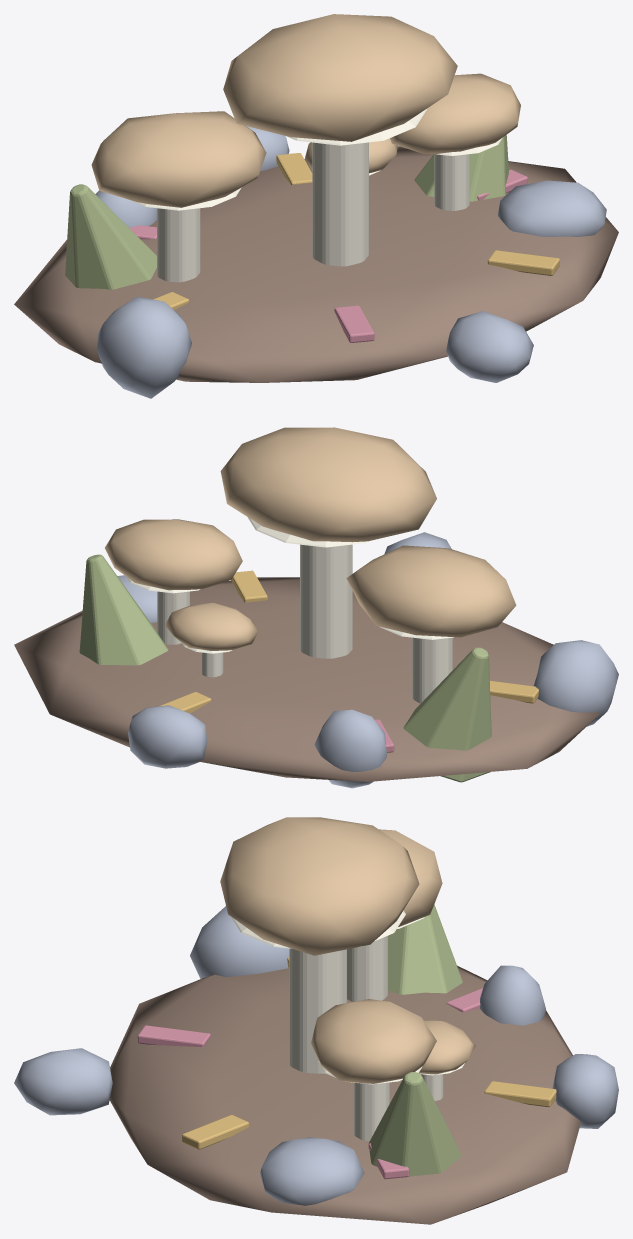
Rendered from northern_mushrooms_tan.glb.
3 views of the same model, one above another, from view 1: azimuth 30°, elevation 25°; view 2: azimuth 150°, elevation 25°; view 3: azimuth 270°, elevation 25° (orthographic). The views are drawn at different scales.
Visible parts, largest first — view 1: northern_mushrooms_tan.001; view 2: northern_mushrooms_tan.001; view 3: northern_mushrooms_tan.001.
Boxes of the visible parts, x1,y1,x2,y2 form: northern_mushrooms_tan.001: (14, 14, 618, 398); northern_mushrooms_tan.001: (14, 427, 618, 788); northern_mushrooms_tan.001: (14, 817, 618, 1224).
Size of the model in its own units: 5.4 by 2.63 by 5.05.
